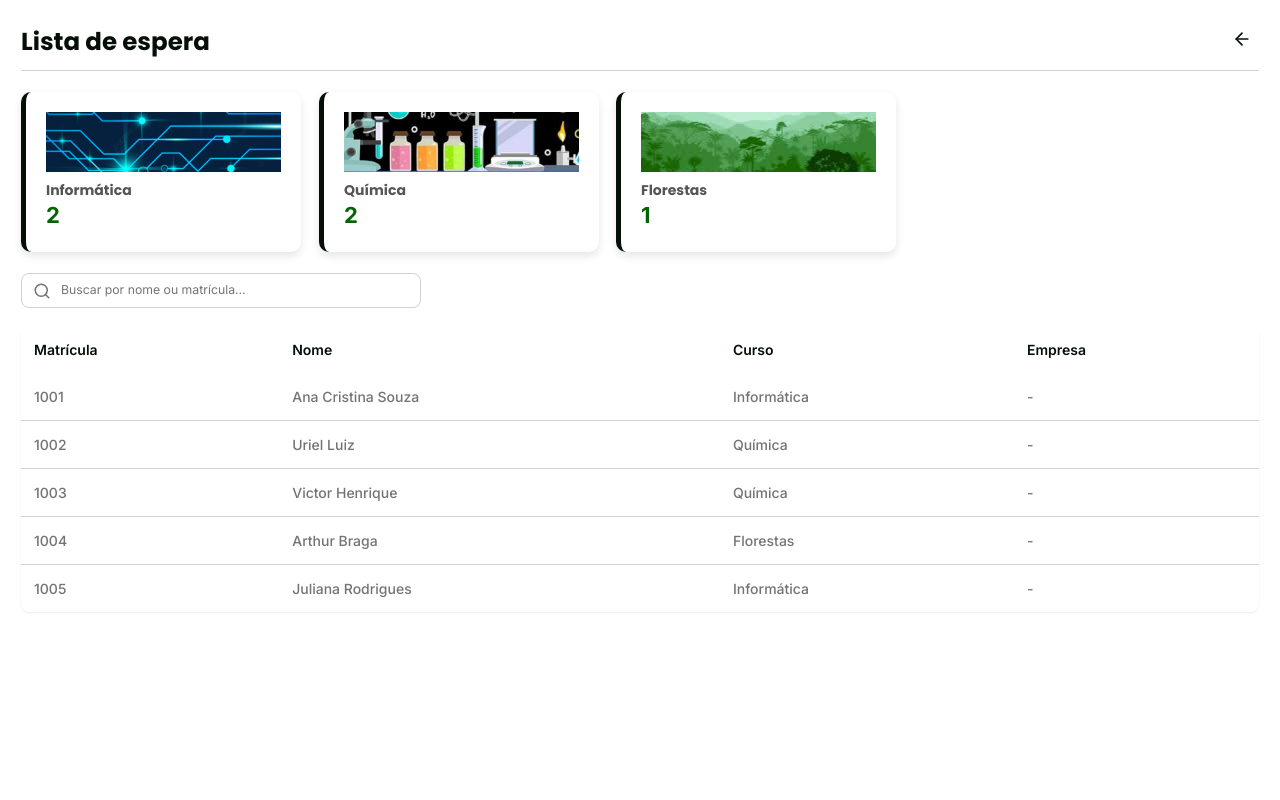
ListaEspera › filtra os alunos por curso ao clicar no card e alterna aria-pressed
This screenshot has width=1280, height=800.
Check: the number of rows is 6, box [21,326,1259,372]; [21,372,1259,420]; [21,420,1259,468]; [21,468,1259,516]; [21,516,1259,564]; [21,564,1259,612]
Click the button with aria-label "Filtrar por Química": (458, 172) [318,92,598,252]
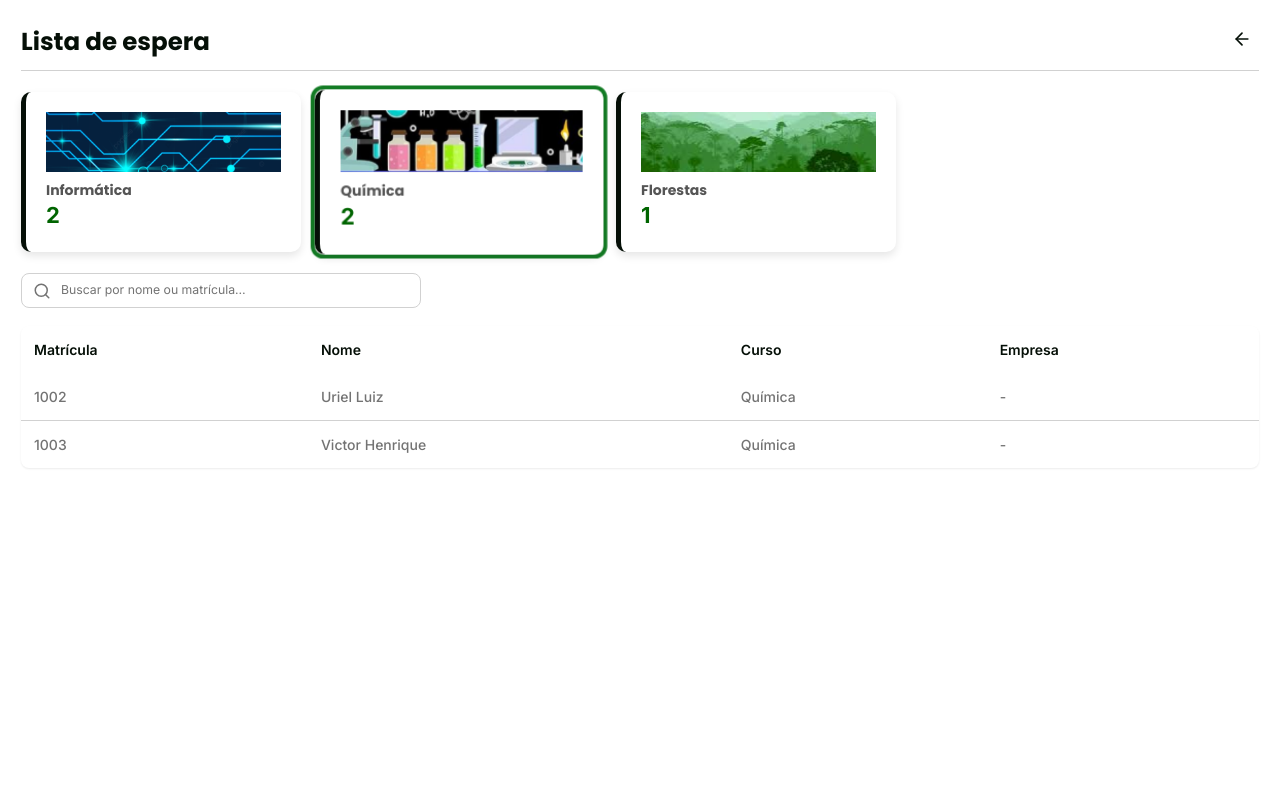
Check: the text "Uriel Luiz" is shown, box [308,372,728,420]
Check: the text "Ana Cristina Souza" is gone
